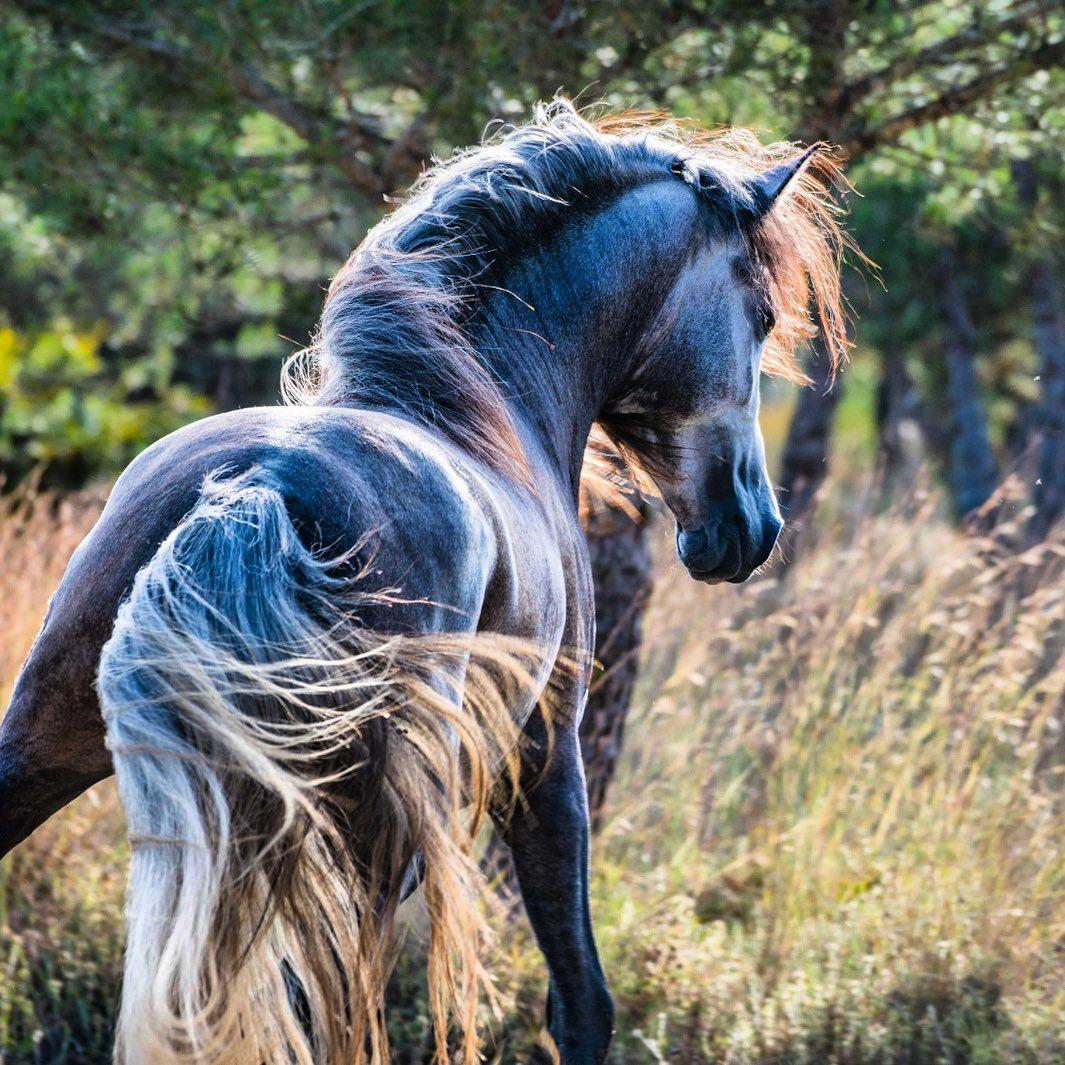horse: (0, 88, 880, 1063)
